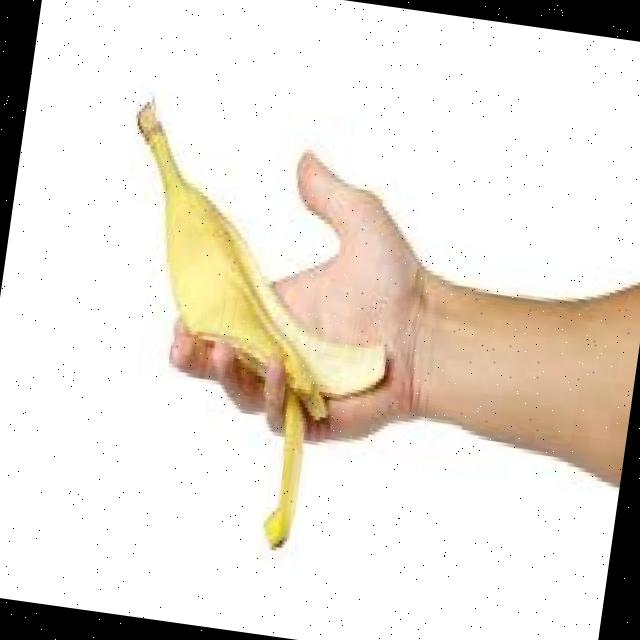banana-peel: (77, 92, 420, 561)
